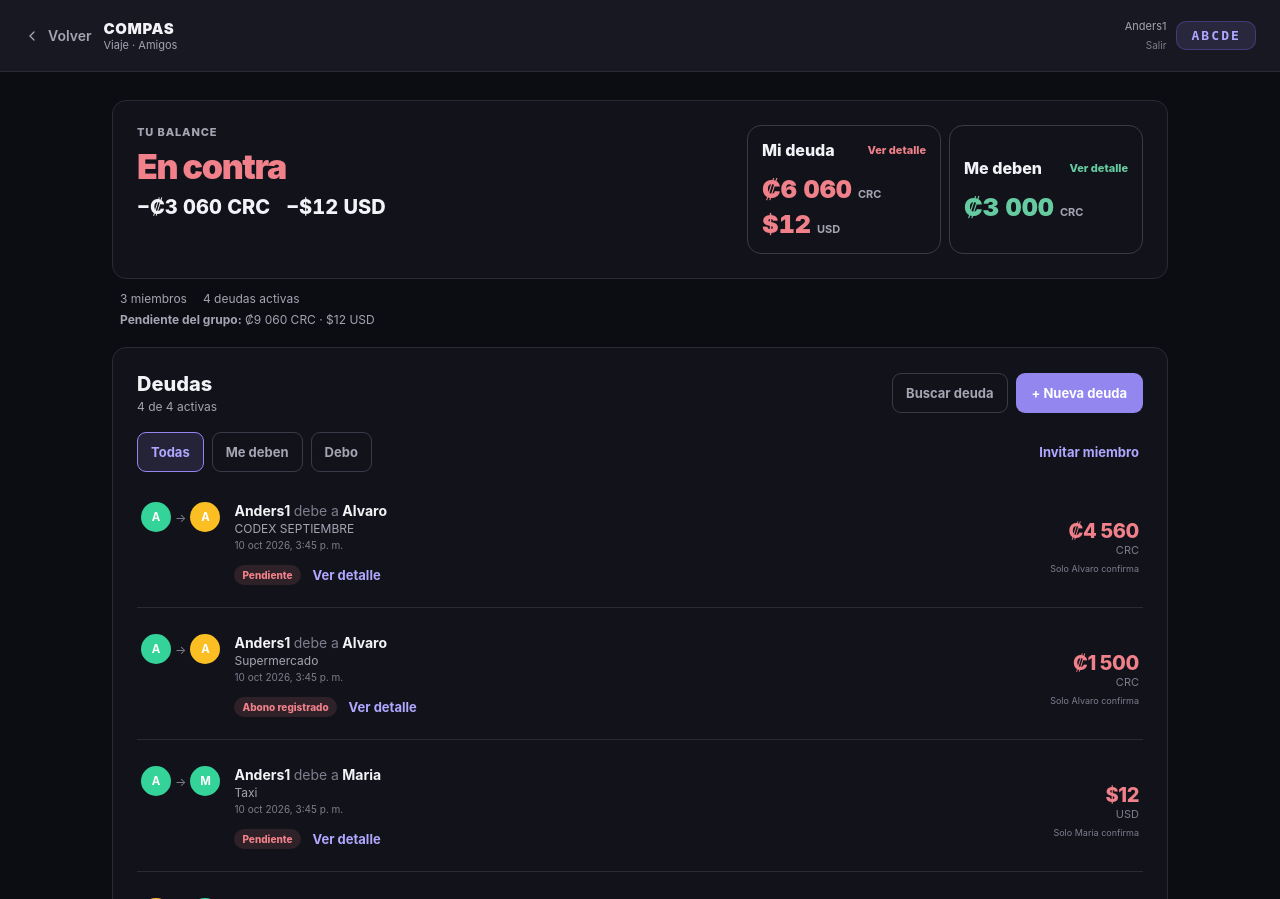
it: GroupPage debt cards › shows the signed-in member's total debt and amounts owed to each person
This screenshot has width=1280, height=899.
Click the button "Mi deuda Ver detalle ₡6 060CRC $12USD".
click(844, 190)  # box [747,125,941,254]
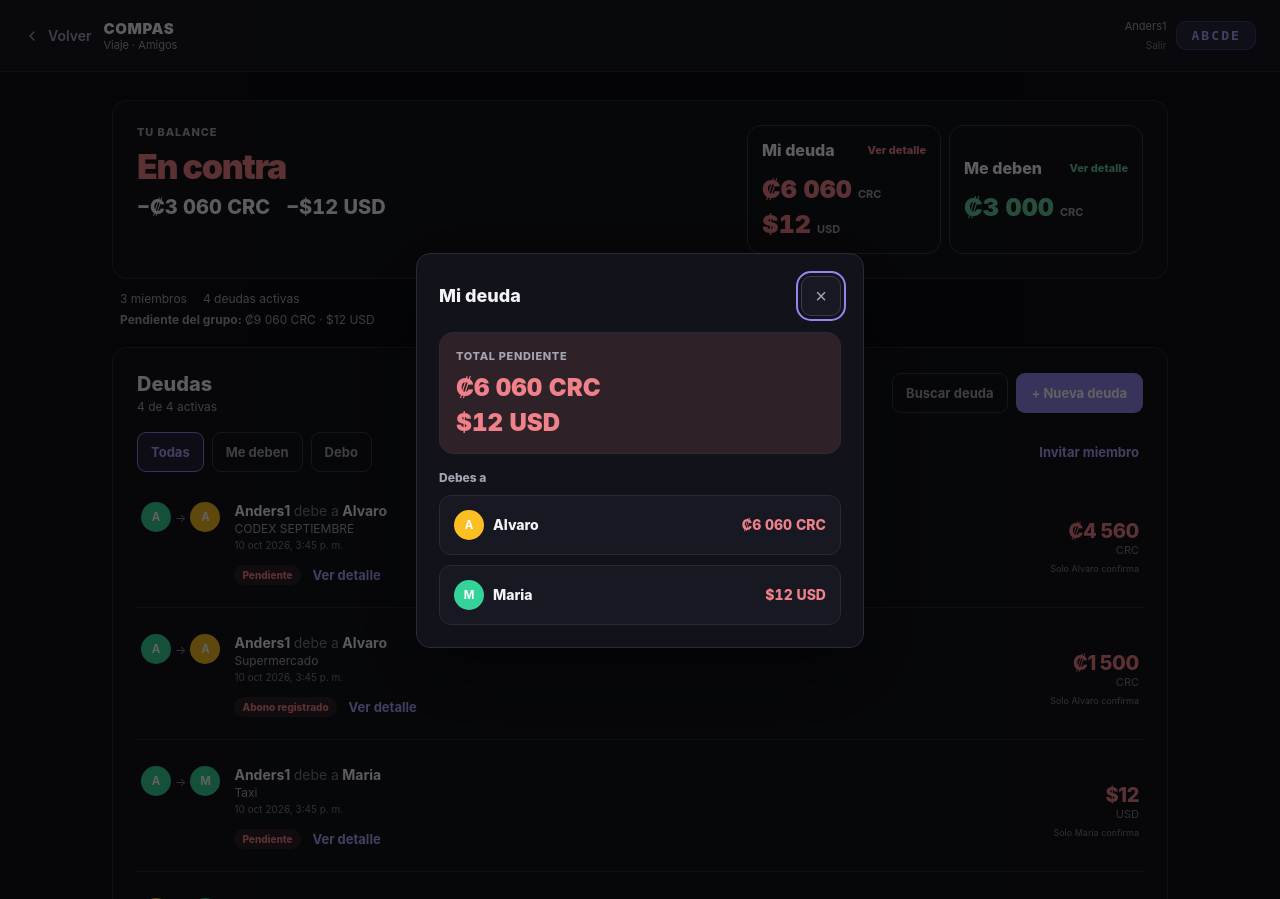
Expected: the text "₡6 060 CRC" below "Total pendiente" is shown, [456,372,601,402]
Expected: the text "$12 USD" below "Total pendiente" is shown, [456,408,560,436]
Expected: the text "₡6 060 CRC" below "Debes a" is shown, [742,516,826,533]
